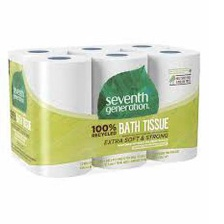tissue: (0, 32, 206, 183)
